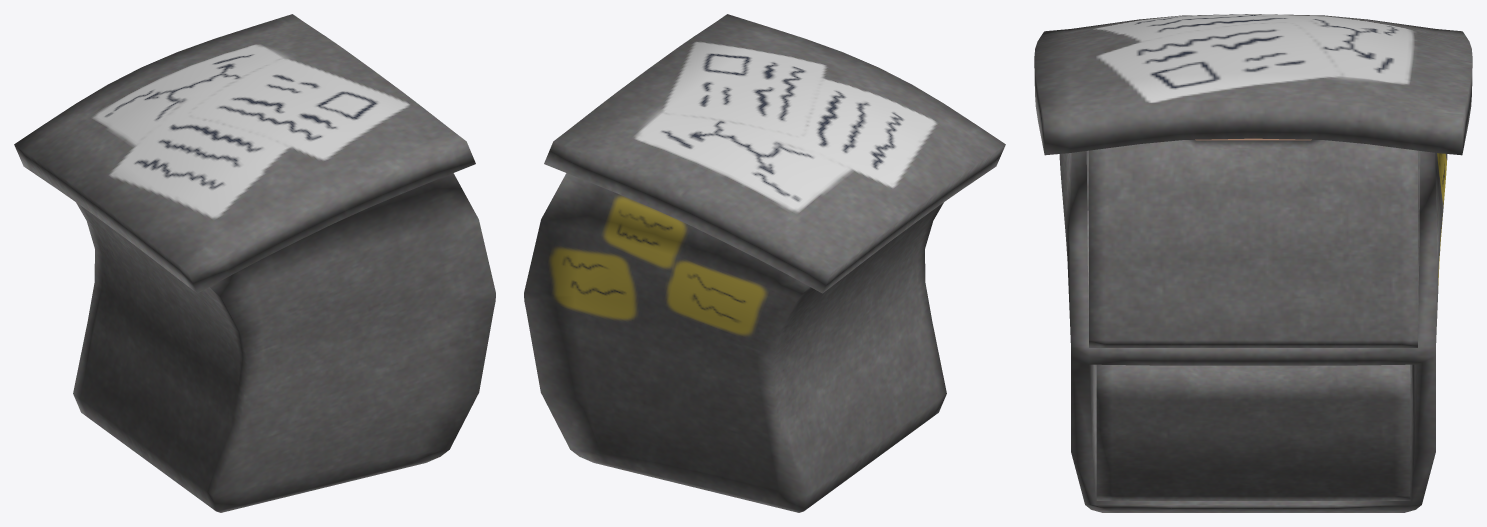
Rendered from FileCabinet_Closed.glb.
3 renders of one model, left to right at view 1: azimuth 30°, elevation 25°; view 2: azimuth 150°, elevation 25°; view 3: azimuth 270°, elevation 25°, orthographic. The views are drawn at different scales.
Parts seen in each view (by area): view 1: FileCabinetBase; view 2: FileCabinetBase; view 3: FileCabinetBase, TopDrawerPapers, TopDrawerPapers.001.
Boxes of the visible parts, x1,y1,x2,y2 form: FileCabinetBase: (14, 14, 495, 512); FileCabinetBase: (524, 14, 1005, 512); FileCabinetBase: (1034, 14, 1472, 512); TopDrawerPapers: (1089, 138, 1417, 347); TopDrawerPapers.001: (1096, 364, 1410, 500).
Size of the model in its own units: 1.11 by 1.13 by 1.08.
3 materials, 3 textured.
